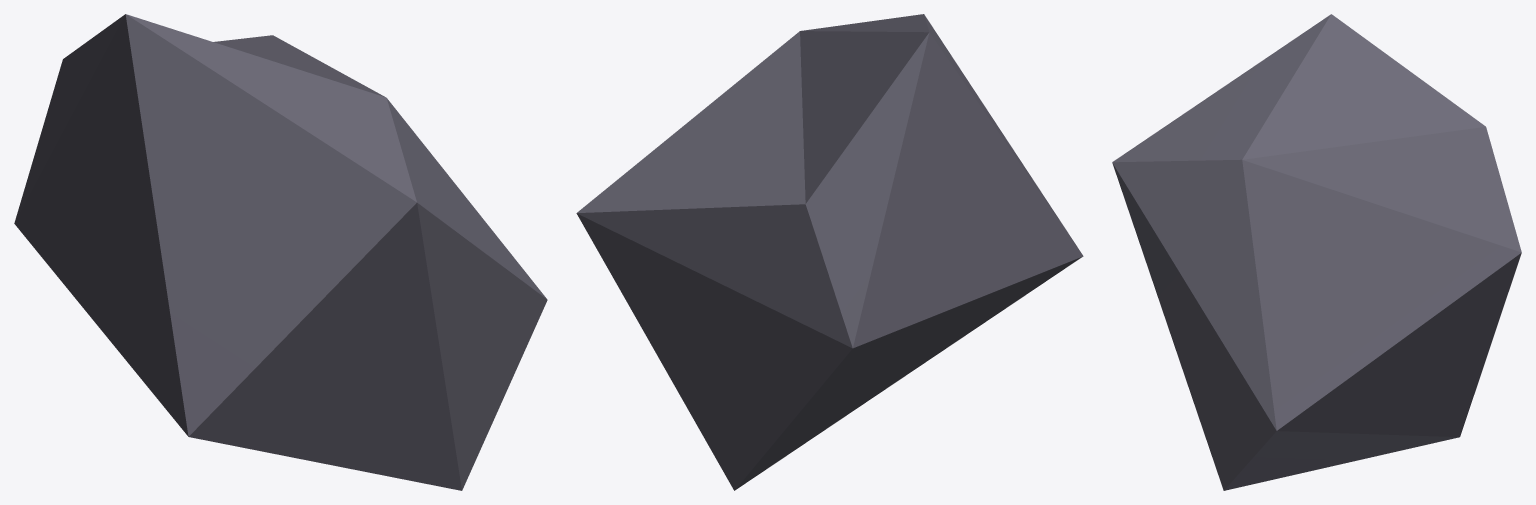
Rendered from smallrock1.fbx.
The picture shows the model from 3 angles, left to right: view 1: azimuth 30°, elevation 25°; view 2: azimuth 150°, elevation 25°; view 3: azimuth 270°, elevation 25°; orthographic projection. The views are drawn at different scales.
Parts seen in each view (by area): view 1: Roundcube.002; view 2: Roundcube.002; view 3: Roundcube.002.
Part boxes in pixels (x1=…): Roundcube.002: x1=14, y1=14, x2=547, y2=490; Roundcube.002: x1=576, y1=14, x2=1083, y2=490; Roundcube.002: x1=1112, y1=14, x2=1521, y2=490.
Bounding box in the file's own units: 43.18 × 45.88 × 45.18.
